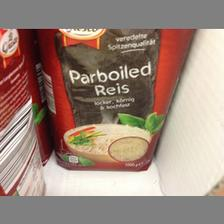Reis: (35, 28, 195, 170)
